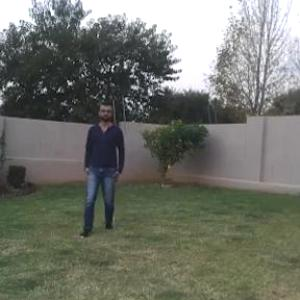follow: (84, 99, 121, 223)
